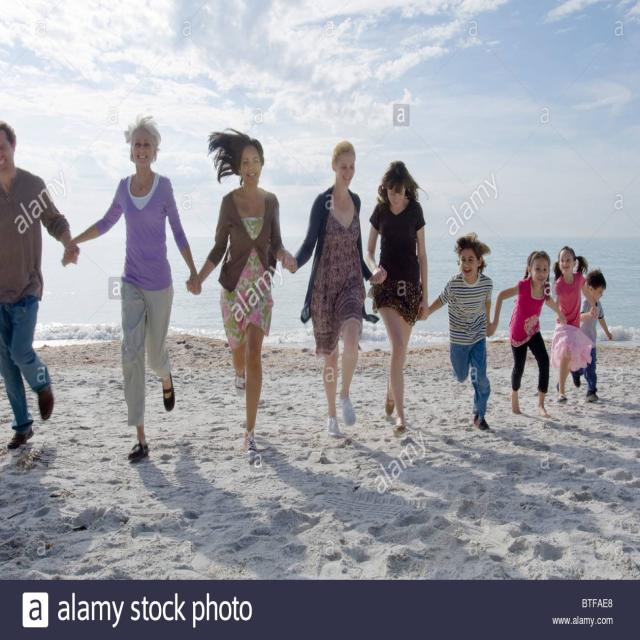body: (68, 112, 202, 464), (186, 123, 300, 459), (284, 137, 387, 442), (0, 117, 77, 456), (364, 157, 431, 434), (416, 231, 496, 435), (488, 250, 568, 420), (550, 243, 600, 403), (570, 268, 614, 402)
